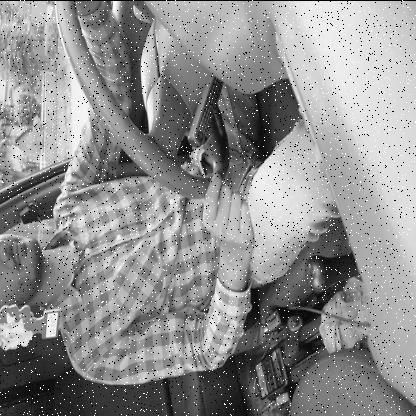no_seatbelt: (0, 184, 189, 312)
